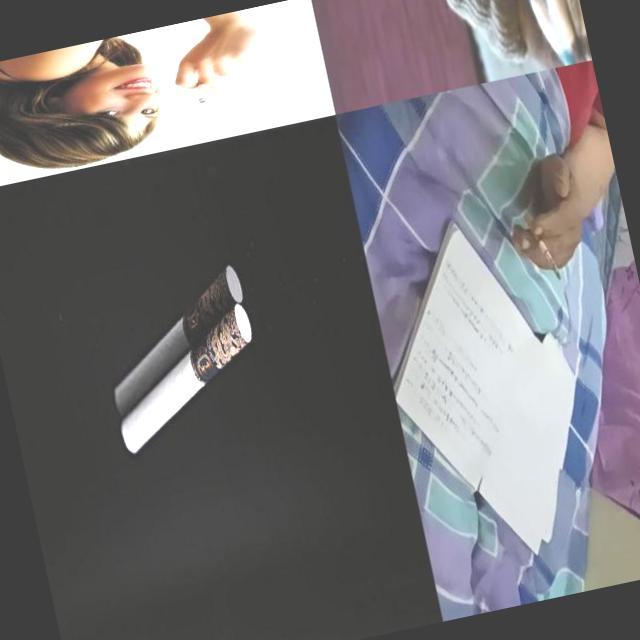cigarette: (91, 262, 262, 418), (99, 302, 272, 456), (522, 204, 562, 285), (192, 74, 210, 104)
